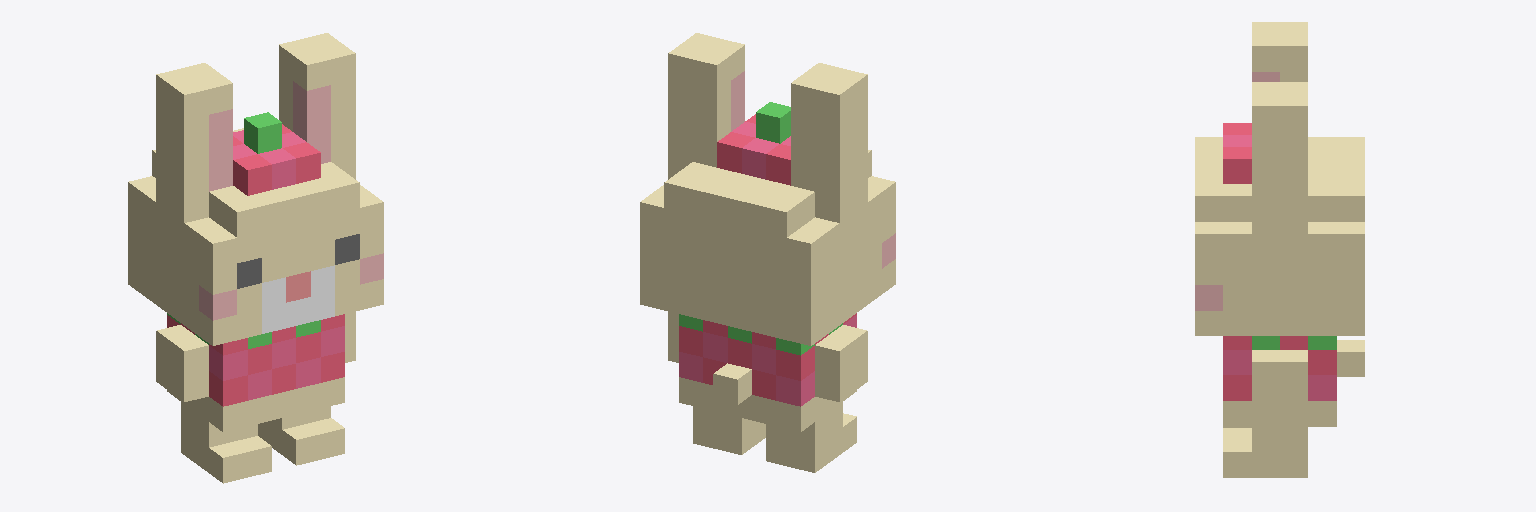
The picture shows the model from 3 angles: view 1: azimuth 30°, elevation 25°; view 2: azimuth 150°, elevation 25°; view 3: azimuth 270°, elevation 25°; orthographic projection.
Parts seen in each view (by area): view 1: object 1; view 2: object 1; view 3: object 1.
Part boxes in pixels (x1,y1,x2,y2): object 1: (128,33,383,483); object 1: (640,33,895,472); object 1: (1195,22,1364,477).
Size of the model in its own units: 0.7 by 1.5 by 0.6.
Materials: 1 (1 with a texture image).